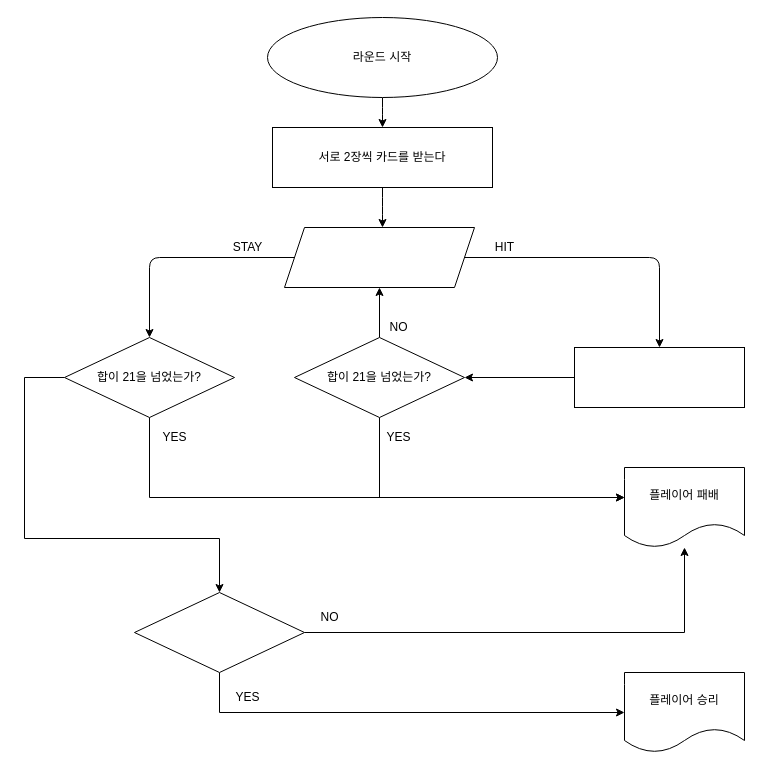
The diagram is 762 pixels wide and 770 high, and some of its shapes have lost their labels. The shapes that lost their labels are listed below. From the top down, each one's box as (x1, y1, x2, y2) in pixels, then its label:
(284, 226, 474, 288): 플레이어 액션 수행
(574, 346, 744, 408): 카드를 1장 받음
(134, 592, 304, 672): 딜러보다 합이 높은가?
